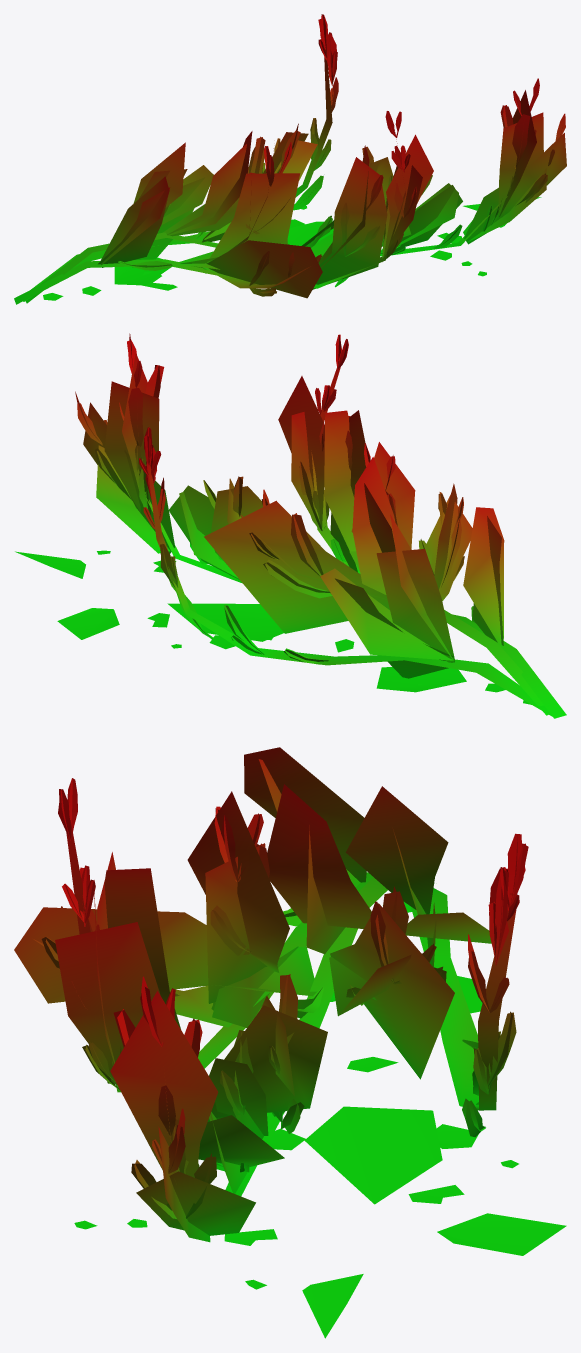
File: River Saltbush_LOD2_Var5_vdfpcgbia.fbx
3 renders of one model, top to bottom at view 1: azimuth 30°, elevation 25°; view 2: azimuth 150°, elevation 25°; view 3: azimuth 270°, elevation 25°, orthographic. The views are drawn at different scales.
Visible parts, largest first — view 1: _9mww_Var5_LOD2; view 2: _9mww_Var5_LOD2; view 3: _9mww_Var5_LOD2.
Part boxes in pixels (x1,y1,x2,y2): _9mww_Var5_LOD2: (14,14,566,304); _9mww_Var5_LOD2: (15,333,566,718); _9mww_Var5_LOD2: (14,747,566,1338).
Bounding box in the file's own units: 46.63 × 17.18 × 23.59.
